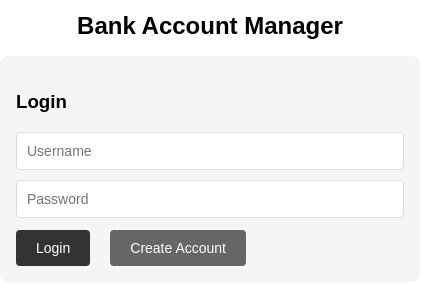
Test: shows login first and can switch to register
The image size is (421, 284).
Expected: the heading "Login" is shown, [16,91,67,112]
Click the button "Create Account".
click(178, 248)  # box [110,230,246,266]
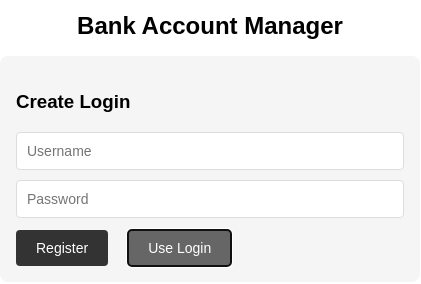
Expected: the heading "Create Login" is shown, [16,91,130,112]
Expected: the button "Register" is shown, [16,230,108,266]
